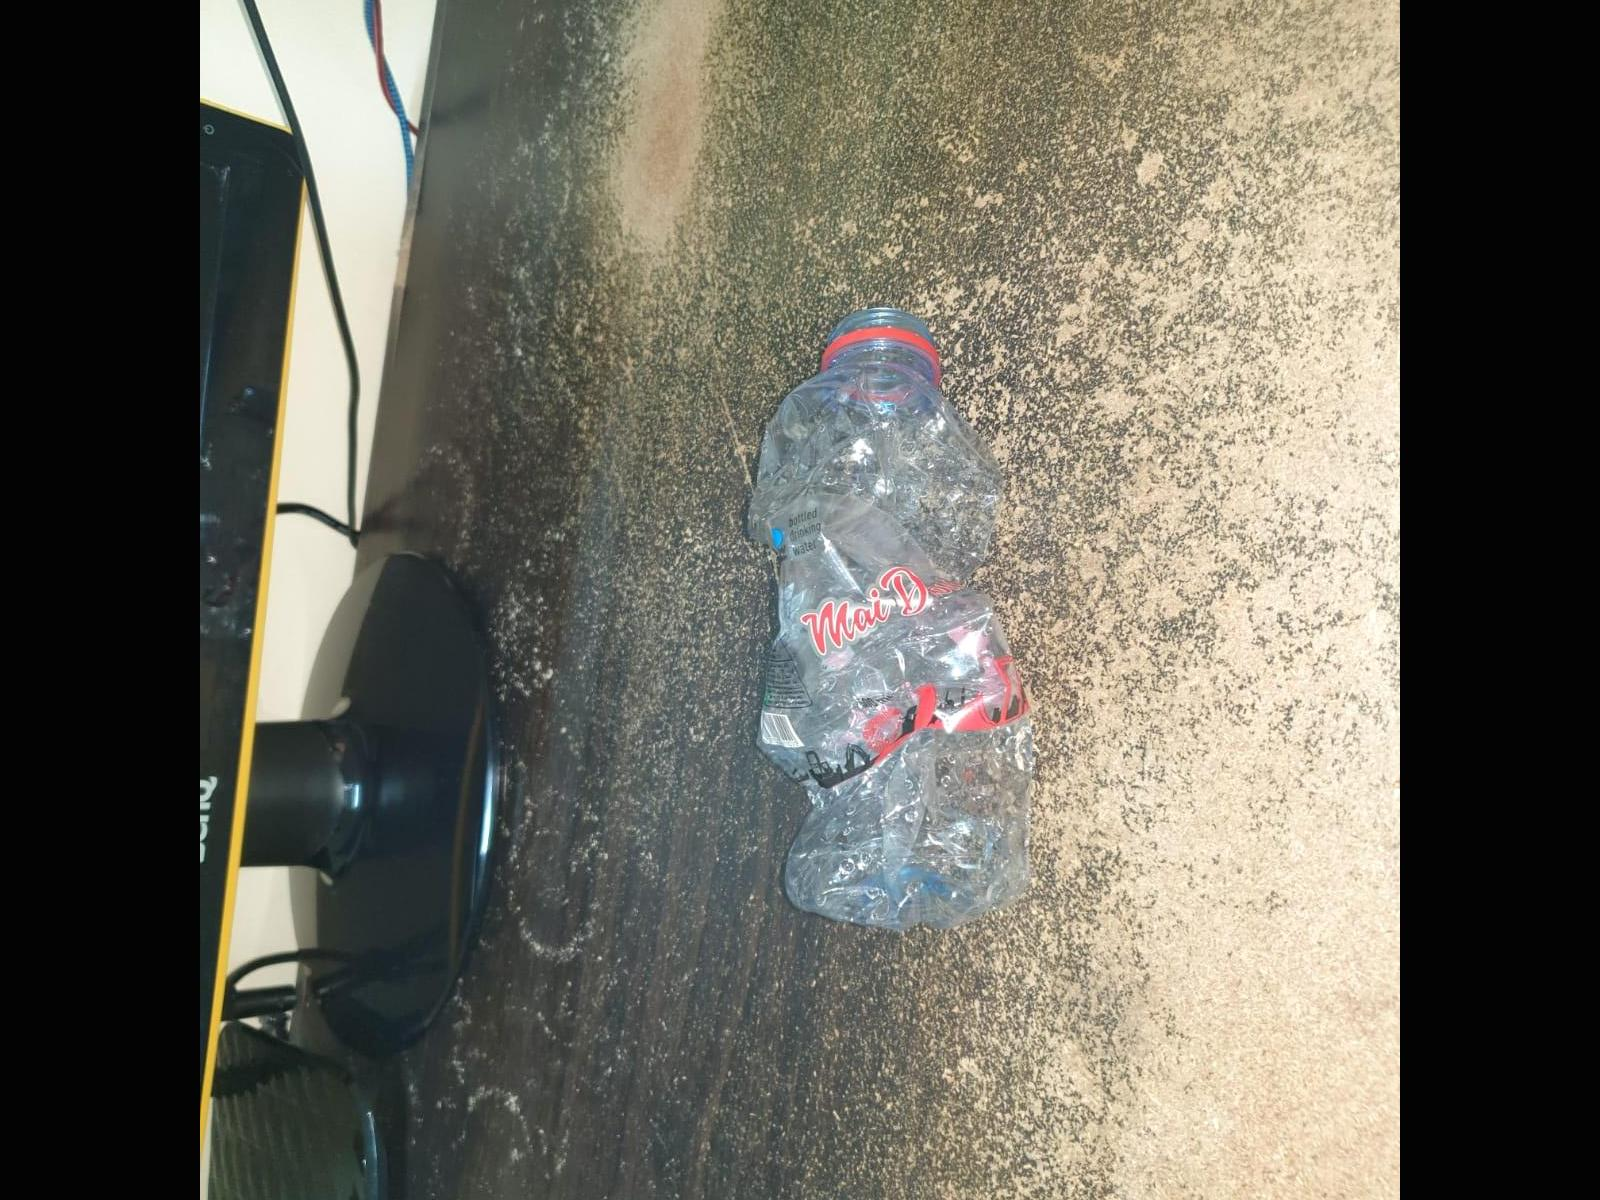bottle: (748, 299, 1044, 939)
